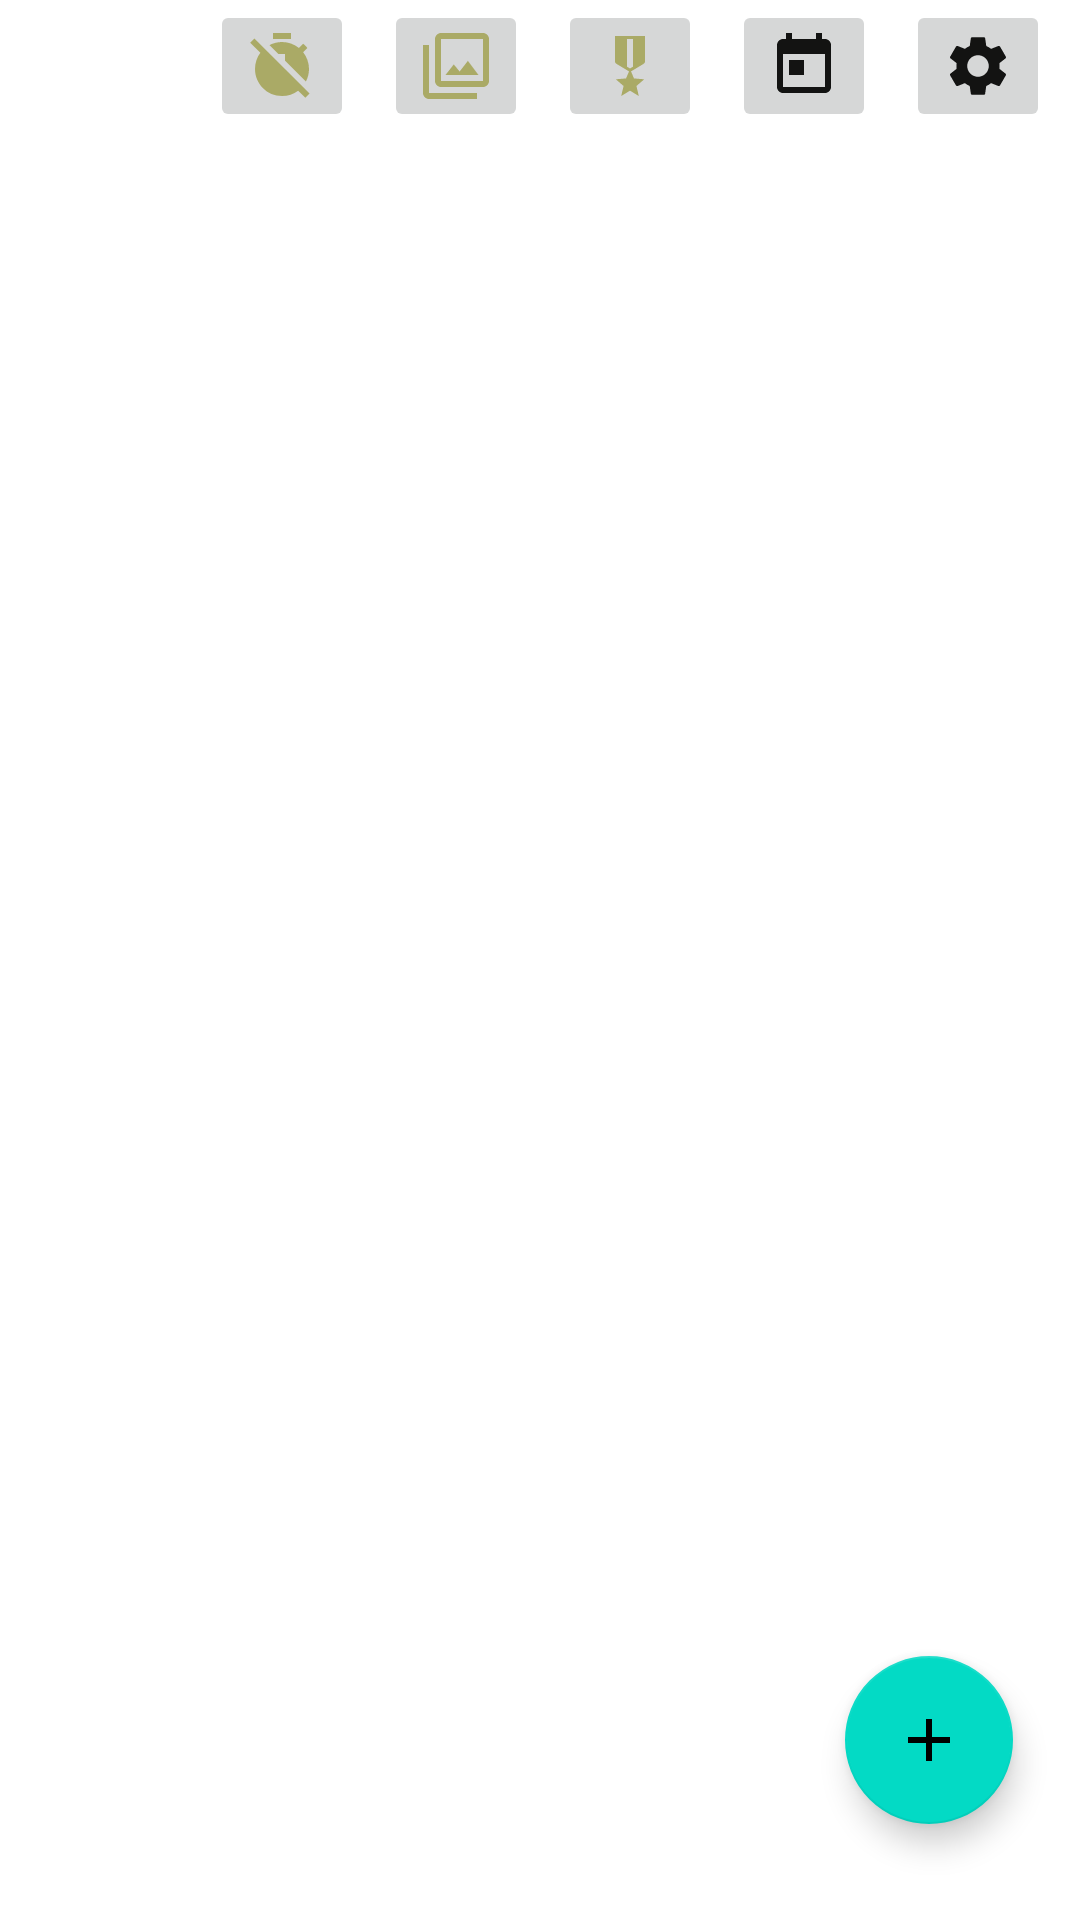

Where icons sit on this 1080x1920 app screen, as (x1, y1, x2, y2):
add: (845, 1656, 1013, 1824)
military tech: (570, 18, 690, 114)
settings: (918, 18, 1038, 114)
timer off: (222, 18, 342, 114)
today: (744, 18, 864, 114)
